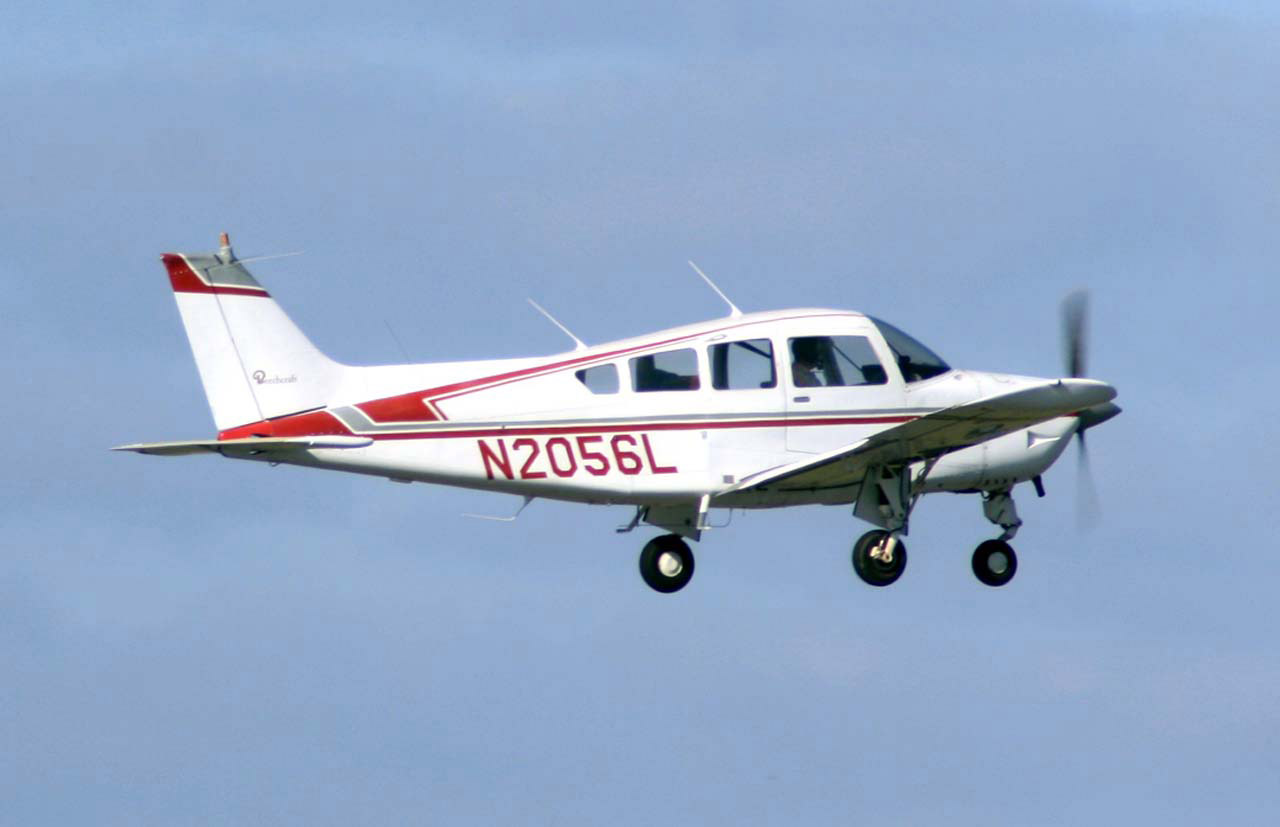plane: (113, 231, 1122, 593)
